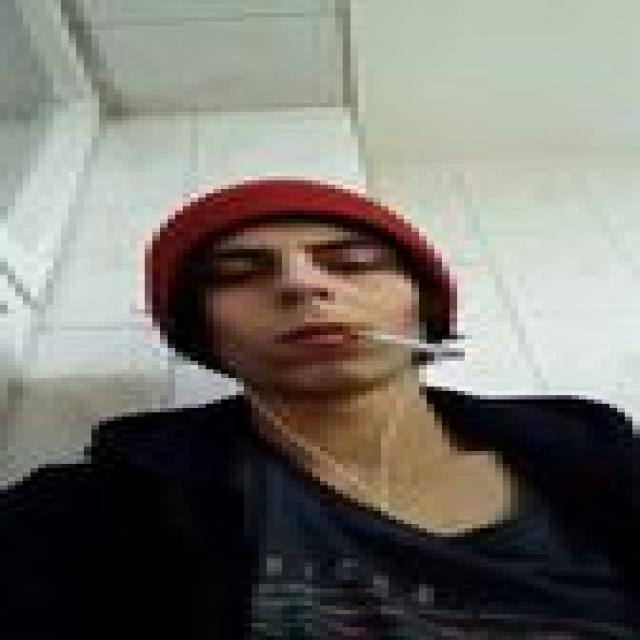smoke: (343, 322, 472, 365)
